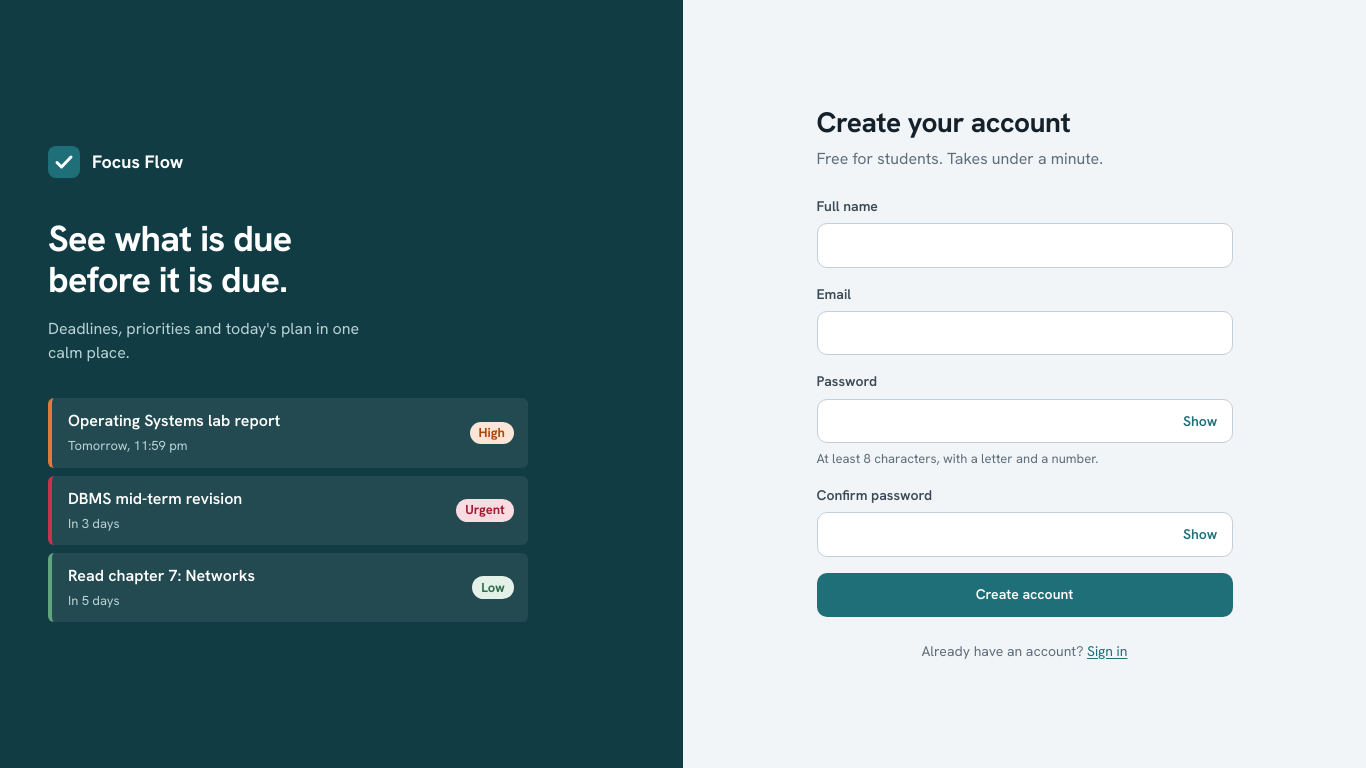
sign up › shows the server message inline when the email is already taken
The image size is (1366, 768).
Type "Tanay Kulkarni" into the field labelled "Full name" at (1024, 246), box left=816, top=223, right=1232, bottom=268
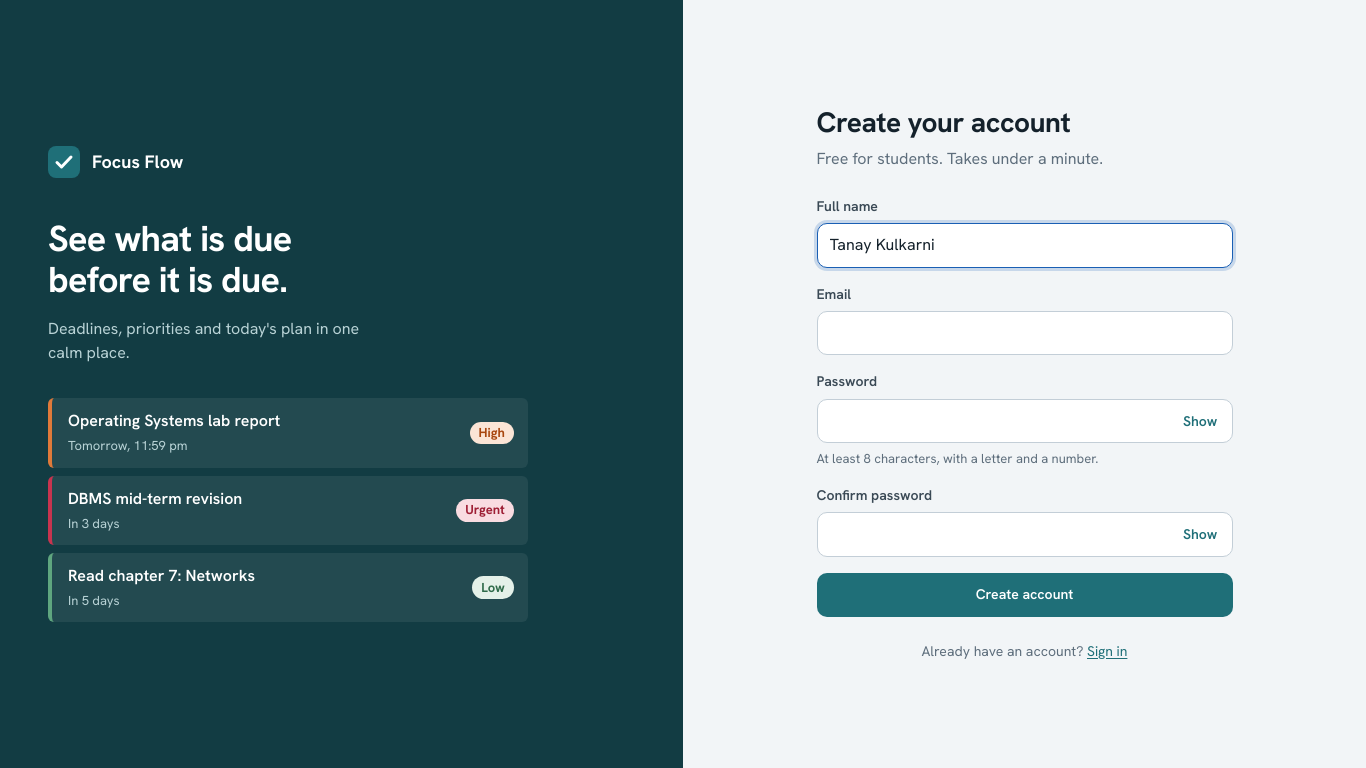
Type "t@x.com" into the field labelled "Email" at (1024, 333), box left=816, top=311, right=1232, bottom=356
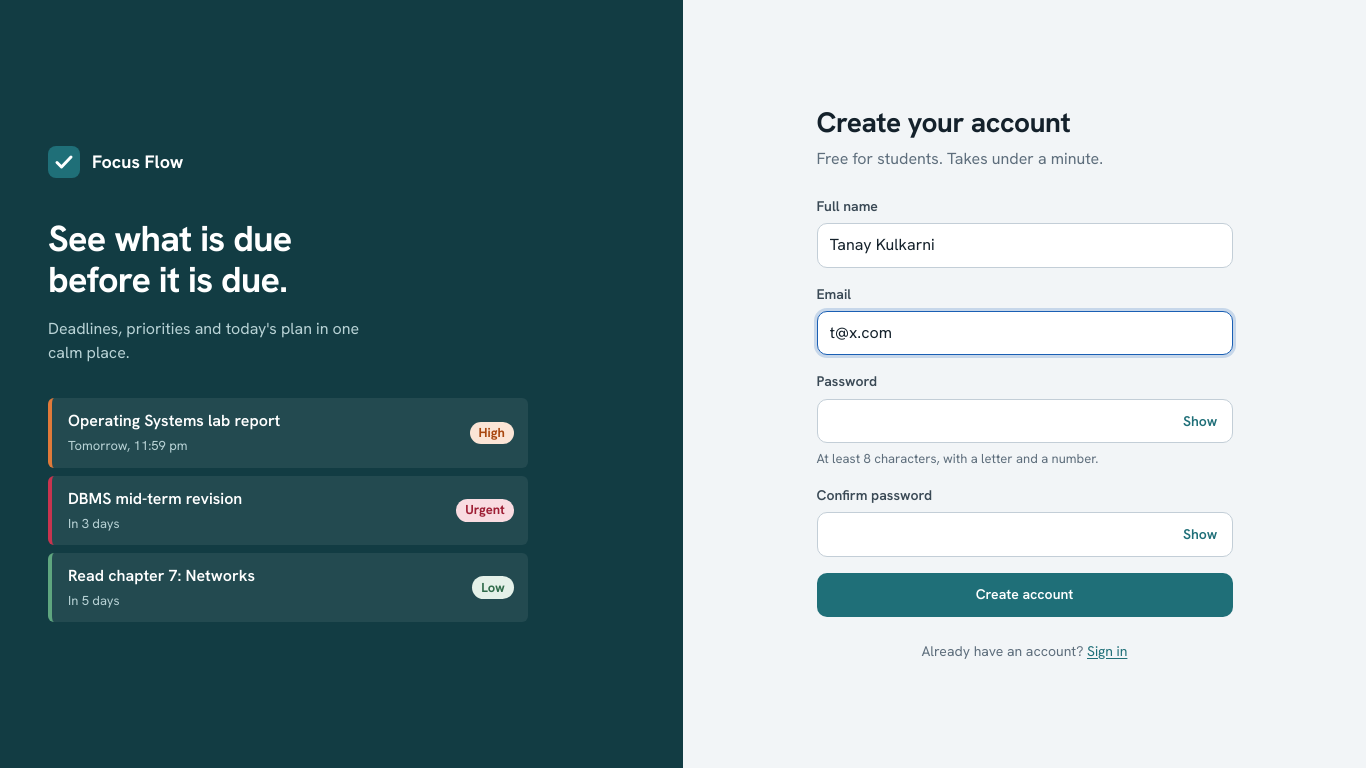
Type "Focus1234" into the password field labelled "Password" at (1024, 421), box left=816, top=399, right=1232, bottom=443
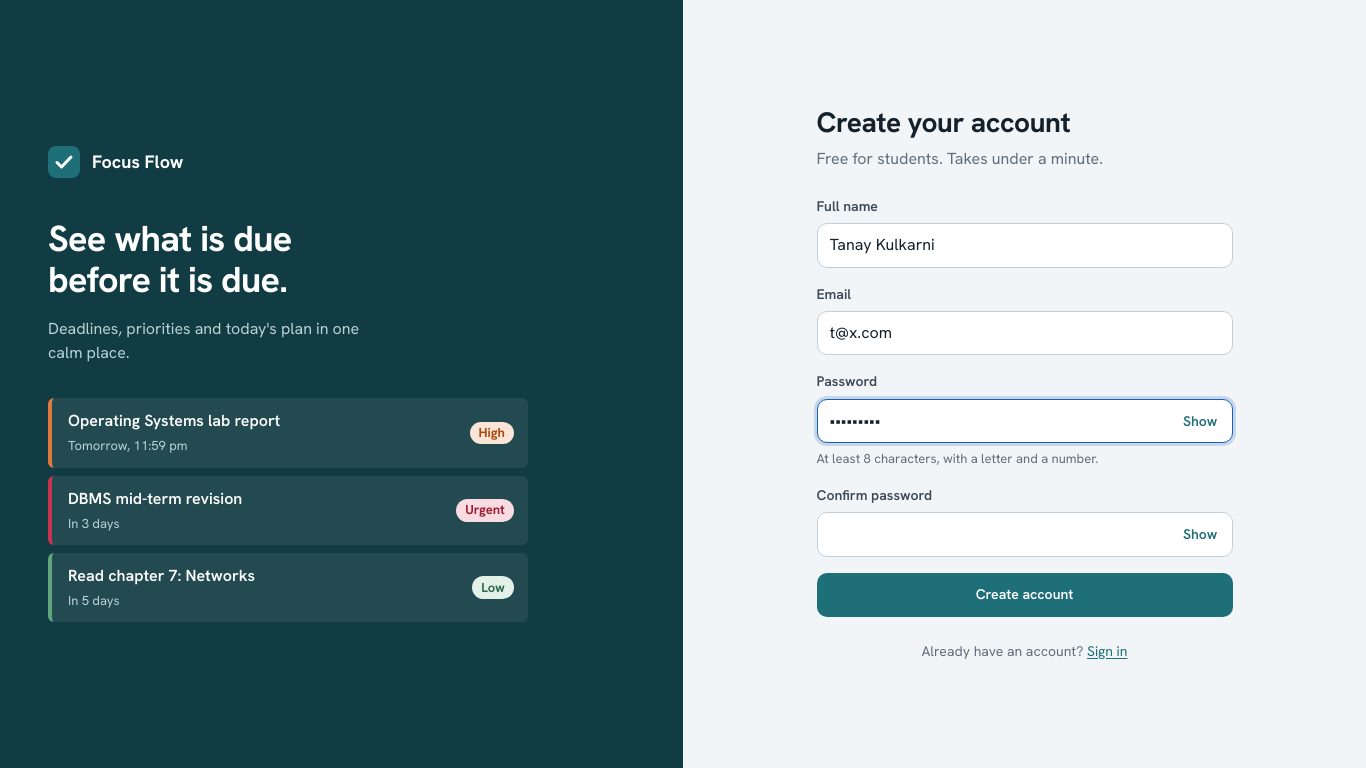
Type "Focus1234" into the password field labelled "Confirm password" at (1024, 534), box left=816, top=512, right=1232, bottom=557
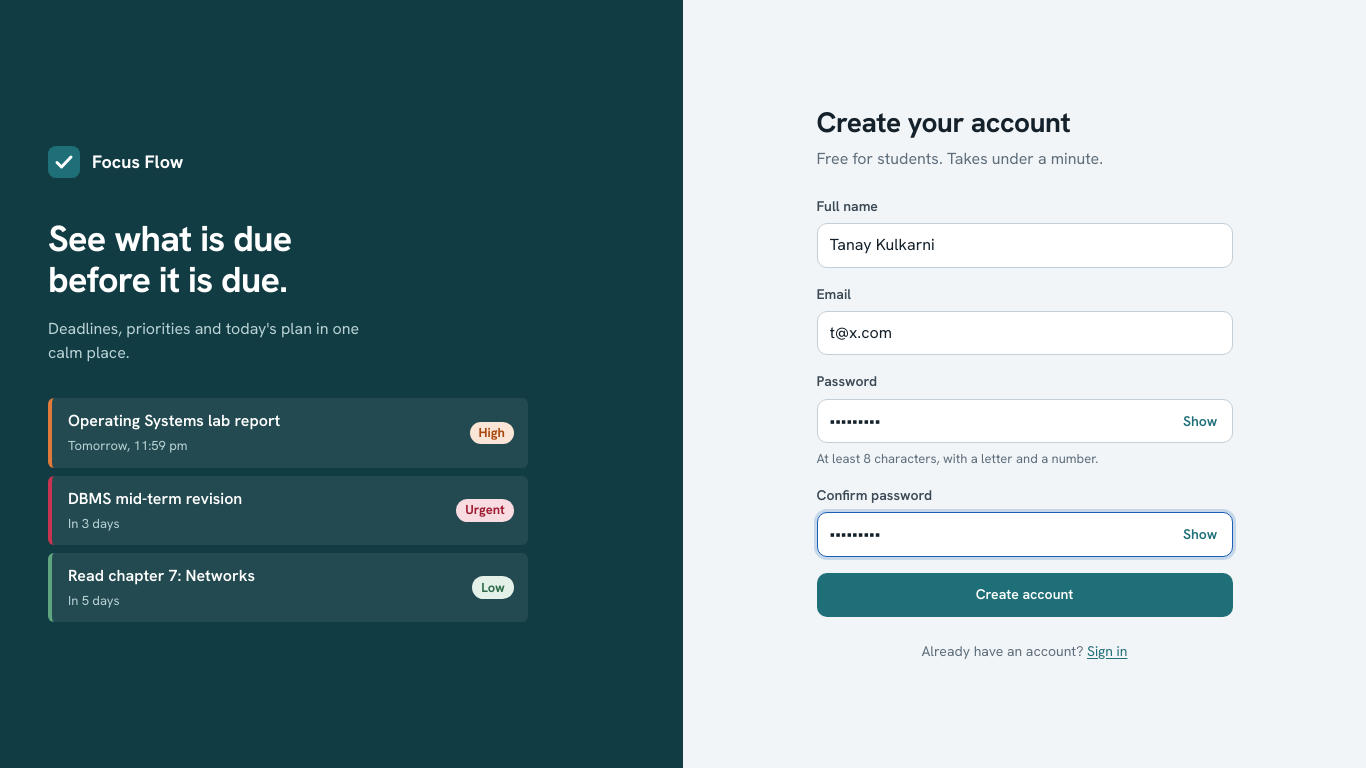
Click the button "Create account" at (1024, 595), box left=816, top=573, right=1232, bottom=617
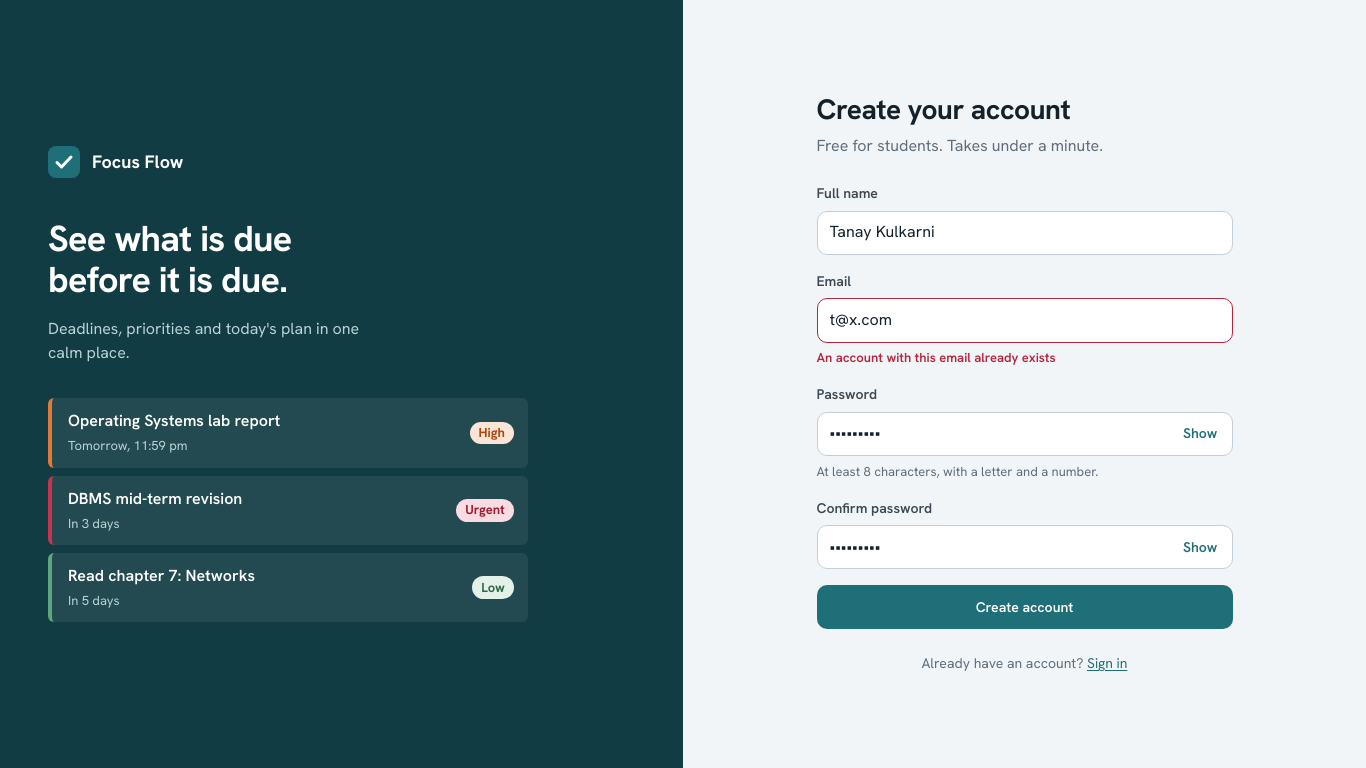
Result: the text "An account with this email already exists" is shown at left=816, top=349, right=1056, bottom=366
